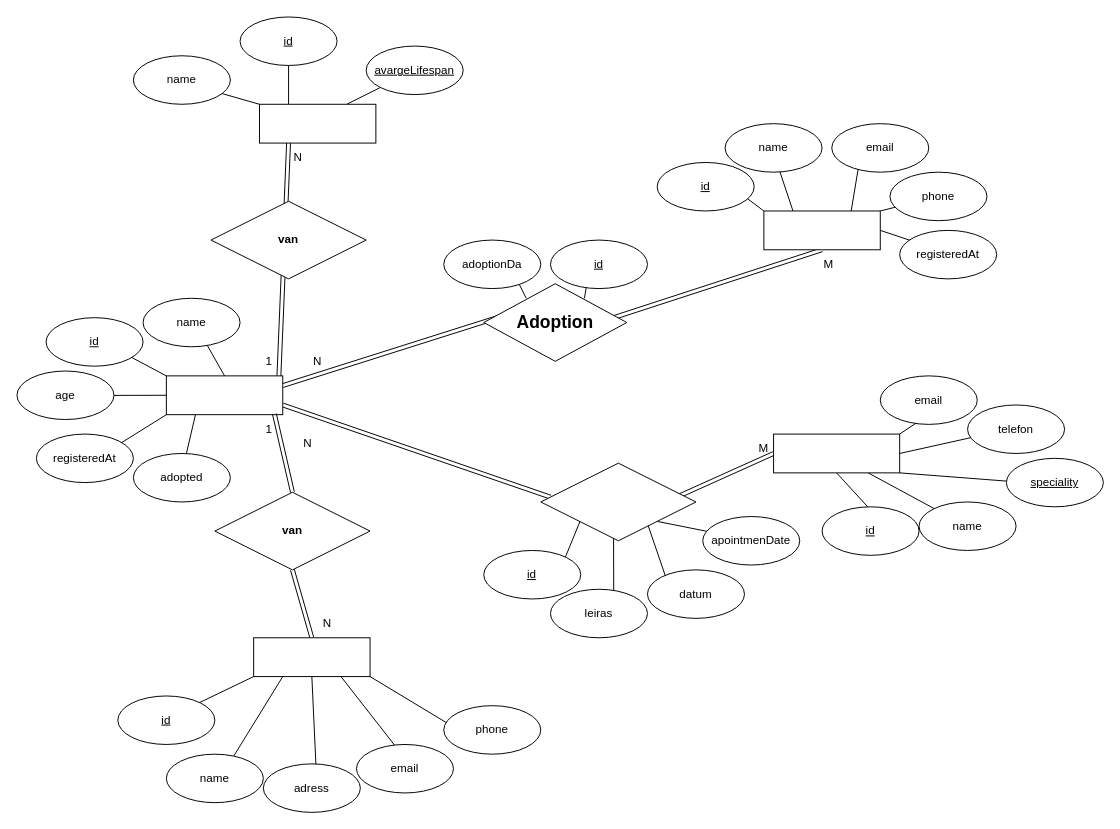
This 1120x829 diagram has some shape labels left out. The centre of each missing label's shape, as x and y in pixels:
"Adopters" goes at (821,230).
"Animals" goes at (224,395).
"Appointments" goes at (618,501).
"Location" goes at (311,657).
"Species" goes at (317,123).
"Vets" goes at (836,453).
